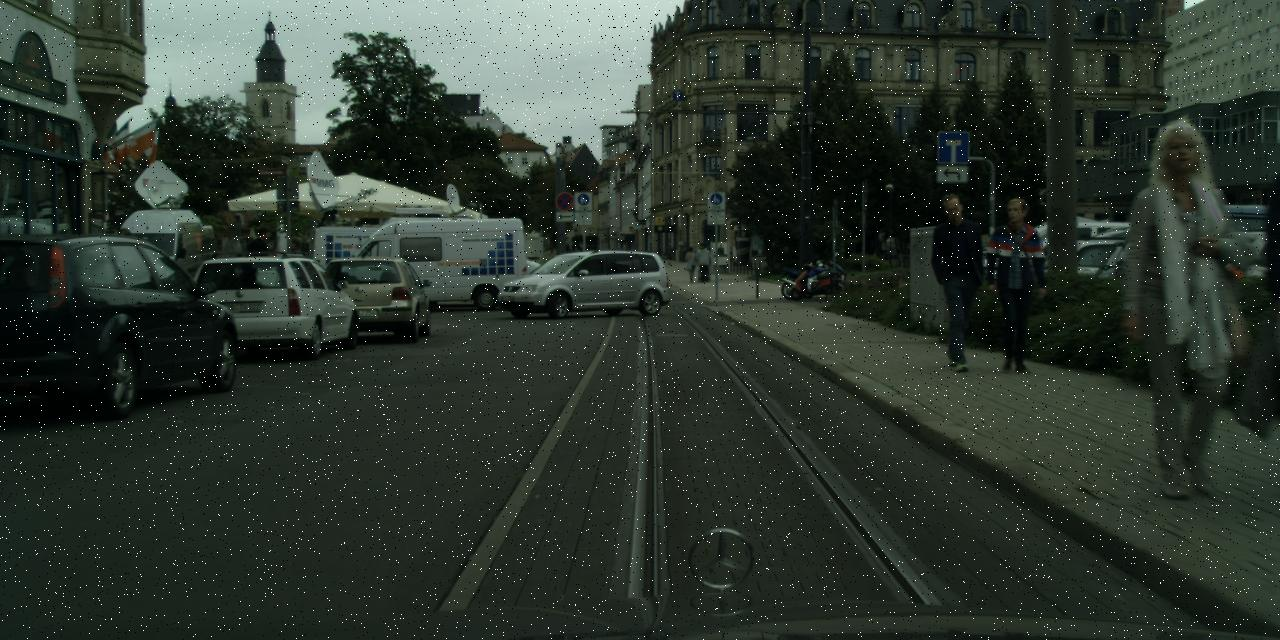ped: (1110, 120, 1264, 496), (919, 192, 990, 367), (981, 198, 1052, 372), (242, 226, 280, 318), (280, 236, 312, 318), (695, 241, 711, 281), (684, 246, 698, 282), (664, 242, 674, 264)
